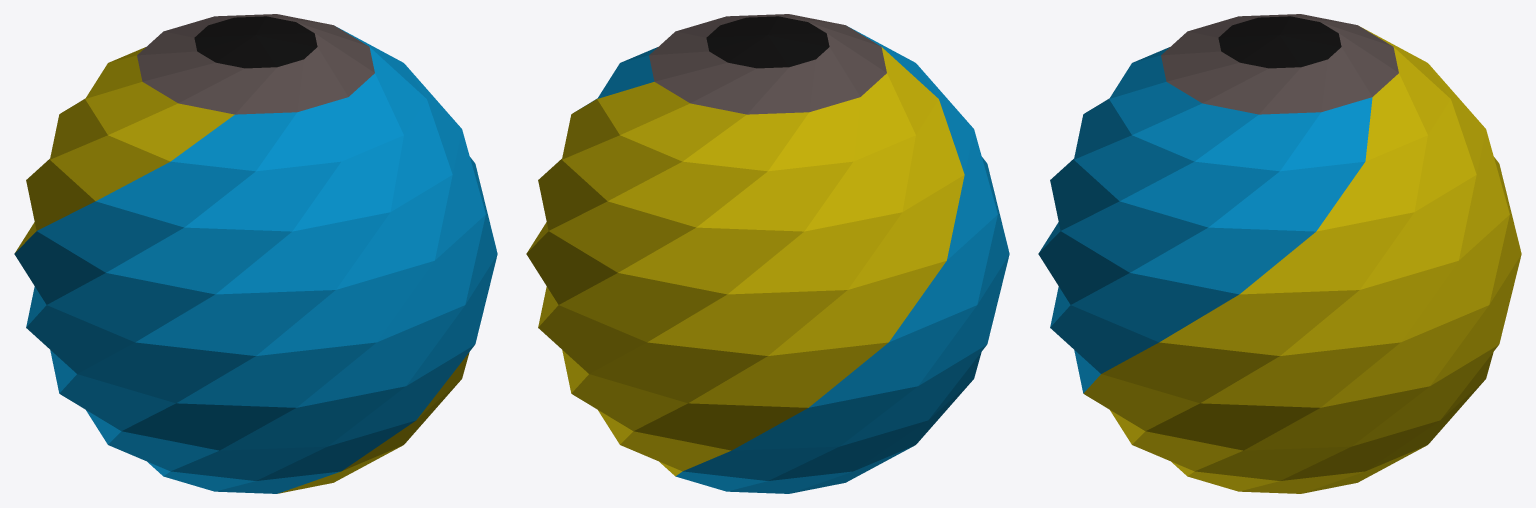
Rendered from ENV_Object_Ball_01.fbx.
3 renders of one model, left to right at view 1: azimuth 30°, elevation 25°; view 2: azimuth 150°, elevation 25°; view 3: azimuth 270°, elevation 25°, orthographic.
Parts seen in each view (by area): view 1: ENV_Object_Ball_01; view 2: ENV_Object_Ball_01; view 3: ENV_Object_Ball_01.
Boxes of the visible parts, x1=… form: ENV_Object_Ball_01: x1=14, y1=14, x2=497, y2=493; ENV_Object_Ball_01: x1=526, y1=14, x2=1009, y2=493; ENV_Object_Ball_01: x1=1038, y1=14, x2=1521, y2=493.
Size of the model in its own units: 22.83 by 22.83 by 22.83.
